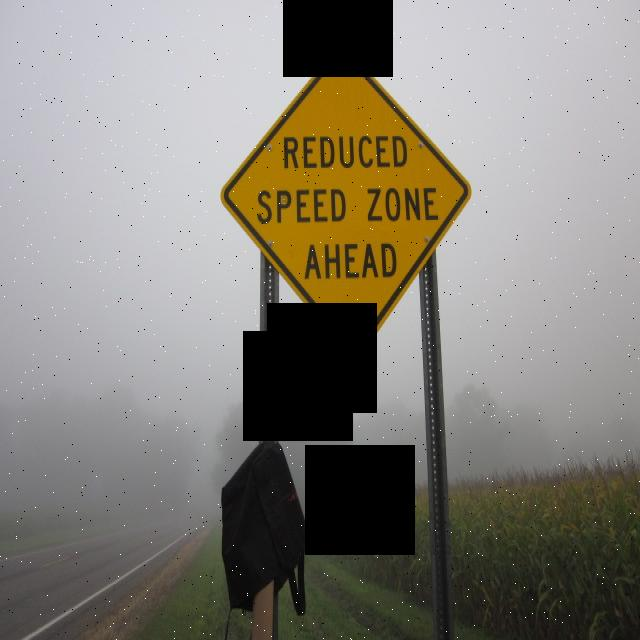warning: (218, 42, 474, 358)
